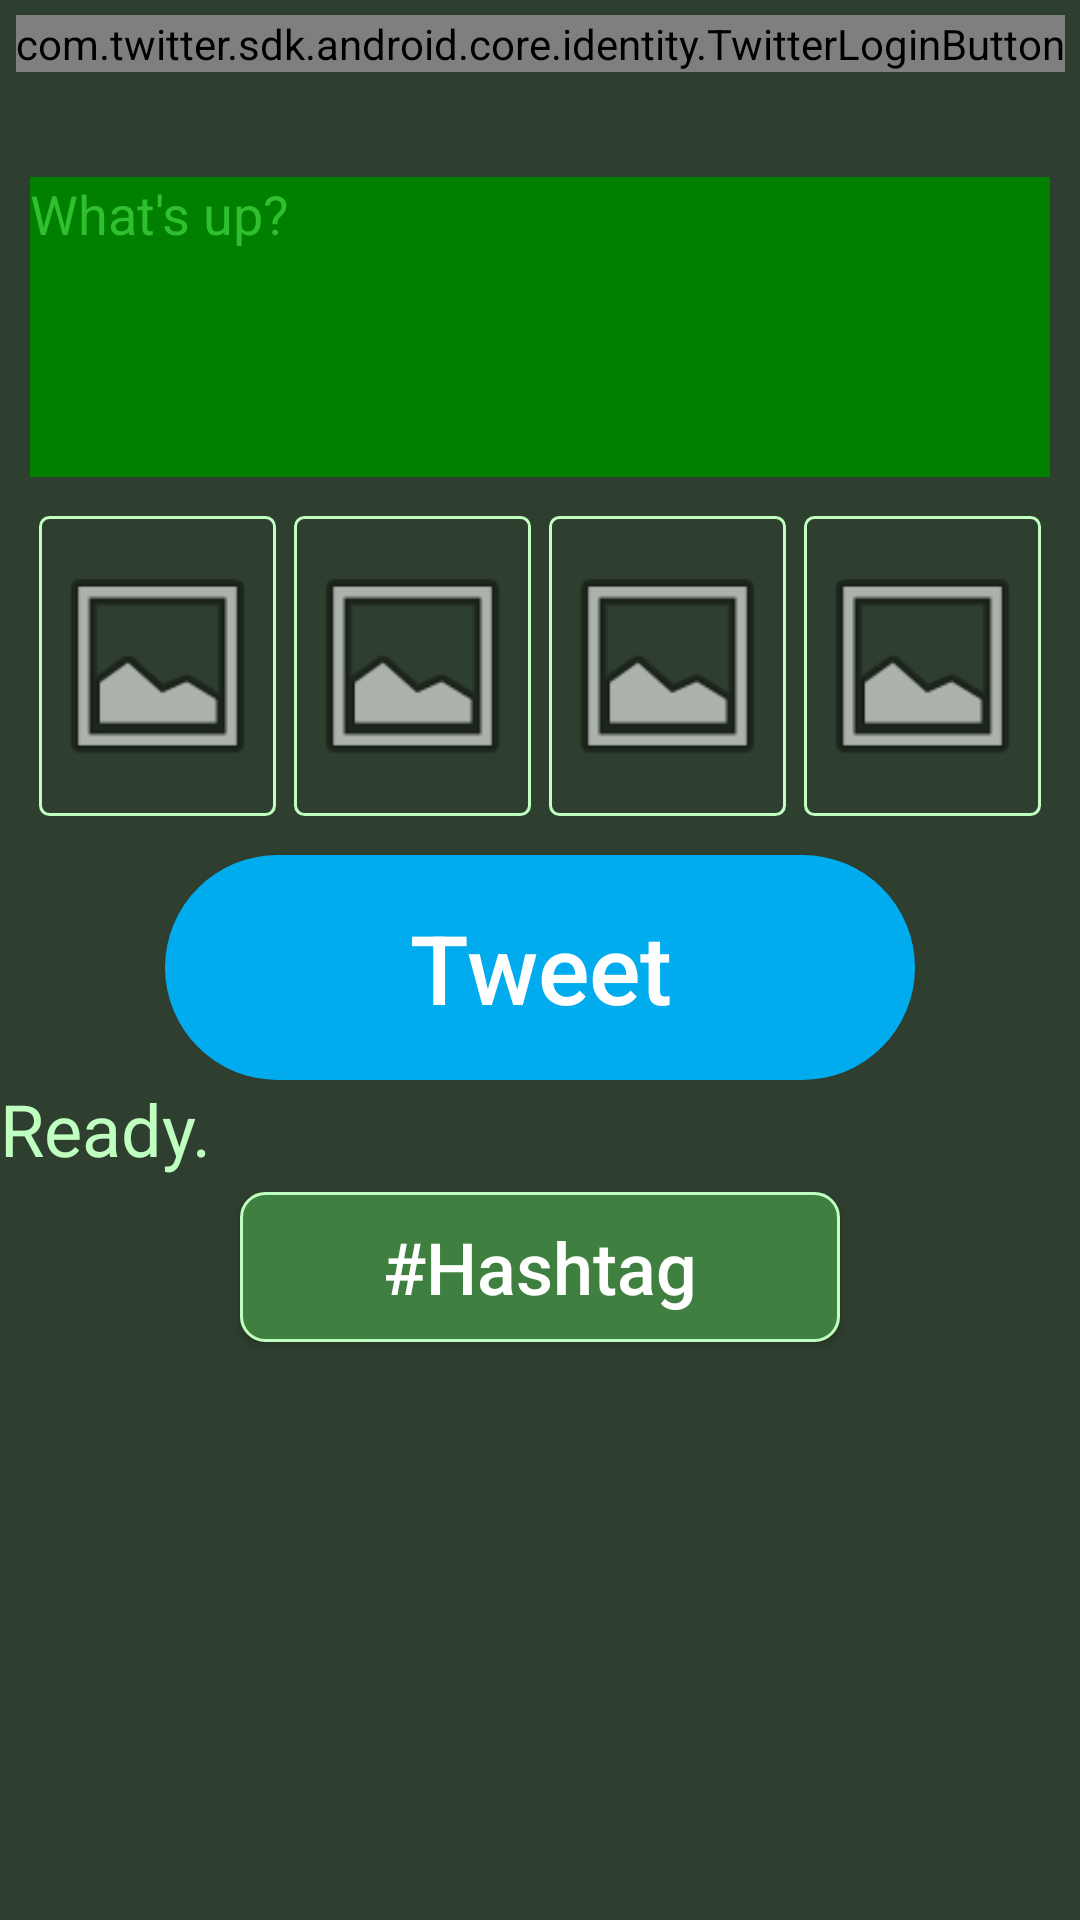

Icons on this 1080px×1920px Android screen, each with the point to tap as (x,y):
gallery: (157,666), (412,666), (667,666), (922,666)
